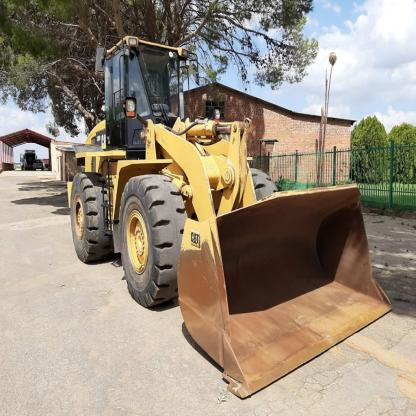bull_dozer/loader/grader: (60, 30, 394, 404)
